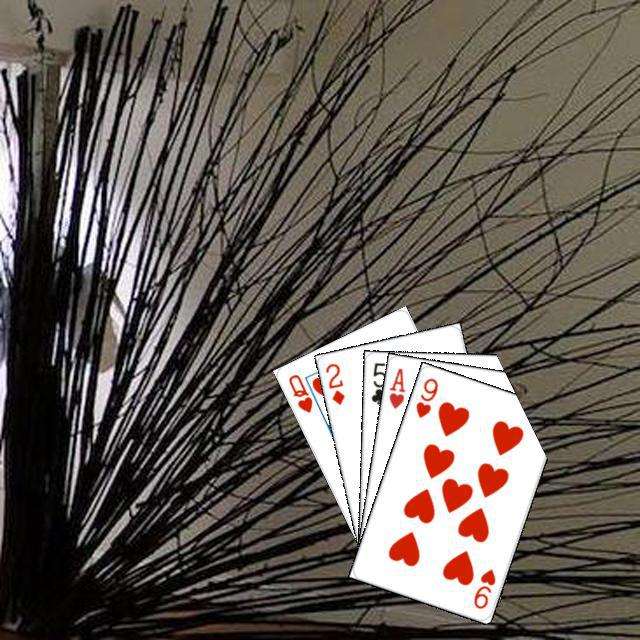2d: (320, 358, 347, 407)
5c: (367, 358, 388, 406)
9h: (411, 373, 440, 420), (469, 564, 497, 611)
Ah: (384, 363, 407, 410)
Qh: (284, 369, 314, 415)
